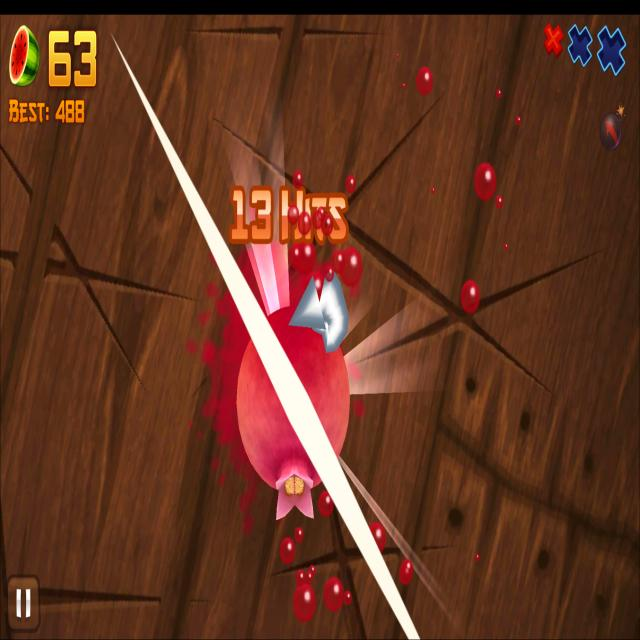fruit: (236, 306, 352, 520)
